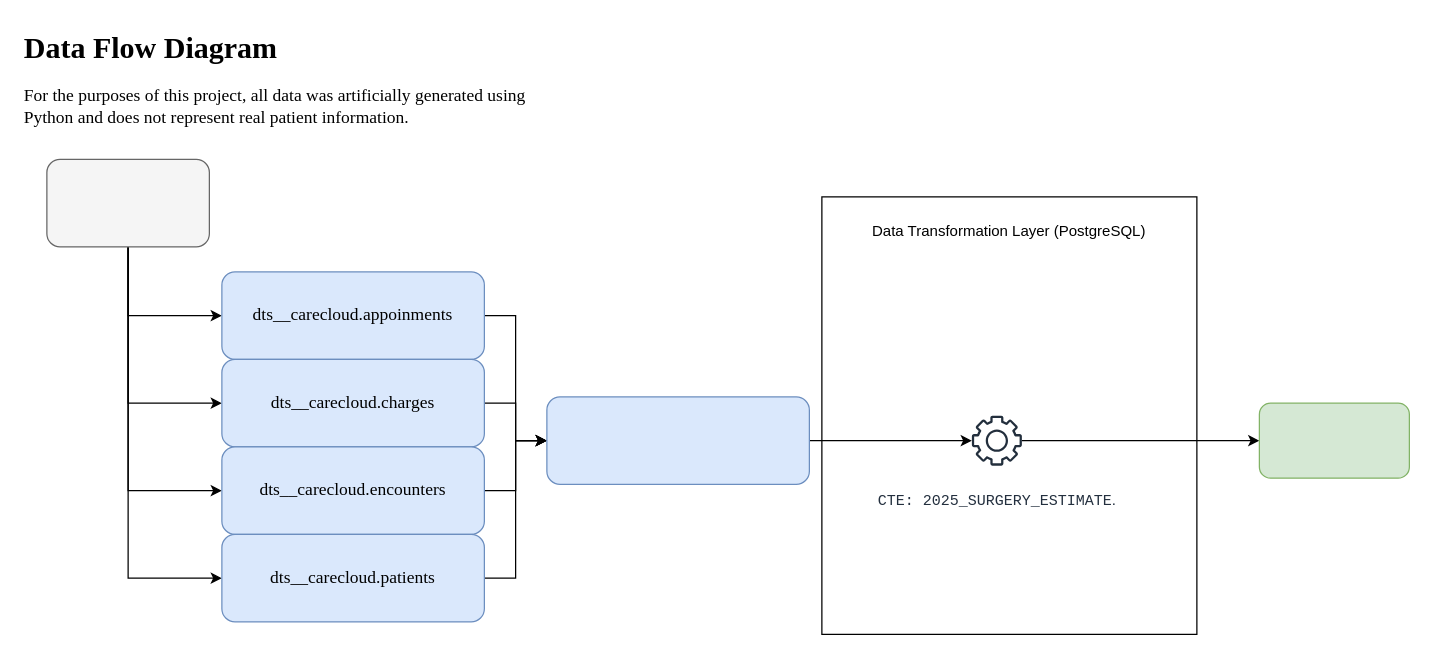
Some shapes in this 1431 by 656 pixel diagram are drawn without their labels. Here are the shapes that lost their labels. From the top down, the centre of each, then its label:
At pixel 127 202: "CareCloud / Populate mock data via Python ✅".
At pixel 677 440: "dw__reporting_tables.appointments combined care-cloud and focus".
At pixel 1333 440: "Final table".
